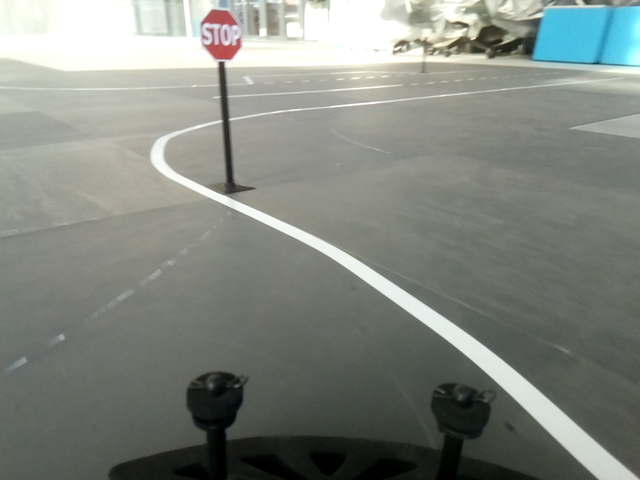parking: (200, 8, 242, 60)
